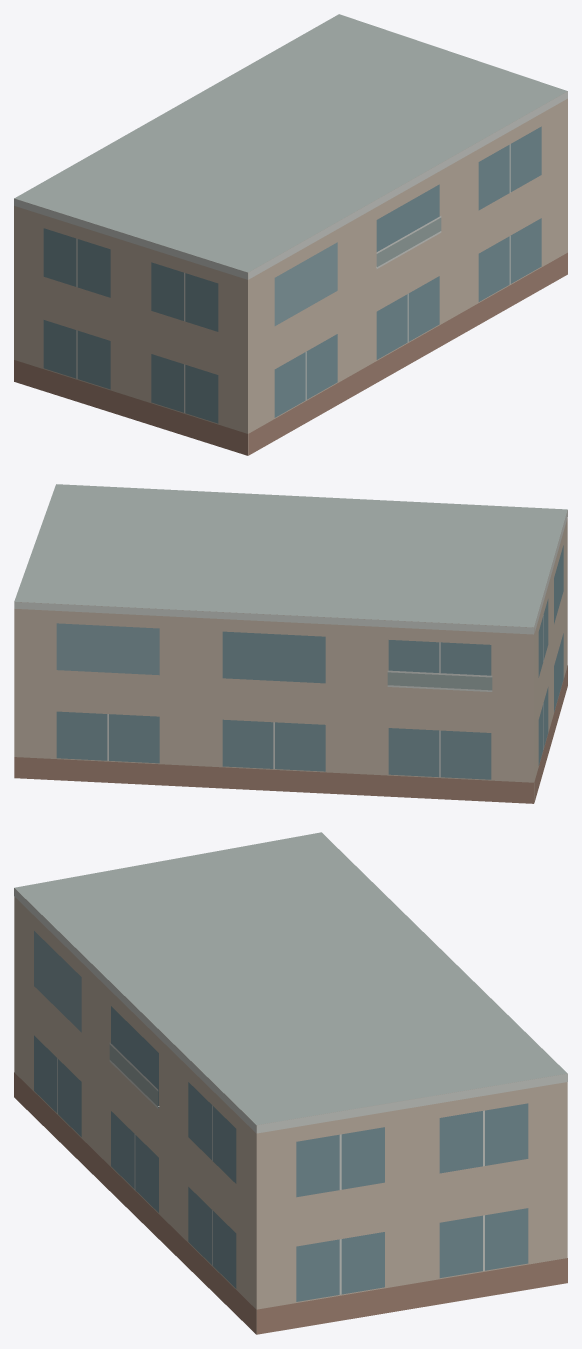
Rendered from survey-upis-32617734.glb.
The picture shows the model from 3 angles, top to bottom: view 1: azimuth 30°, elevation 25°; view 2: azimuth 150°, elevation 25°; view 3: azimuth 270°, elevation 25°; orthographic projection. The views are drawn at different scales.
Visible parts, largest first — view 1: survey-upis-32617734.tmp; view 2: survey-upis-32617734.tmp; view 3: survey-upis-32617734.tmp.
Boxes of the visible parts, left/top/right/bottom form: survey-upis-32617734.tmp: left=14, top=14, right=567, bottom=455; survey-upis-32617734.tmp: left=14, top=484, right=567, bottom=803; survey-upis-32617734.tmp: left=14, top=832, right=567, bottom=1334.
Size of the model in its own units: 18.31 by 6.1 by 14.62.
